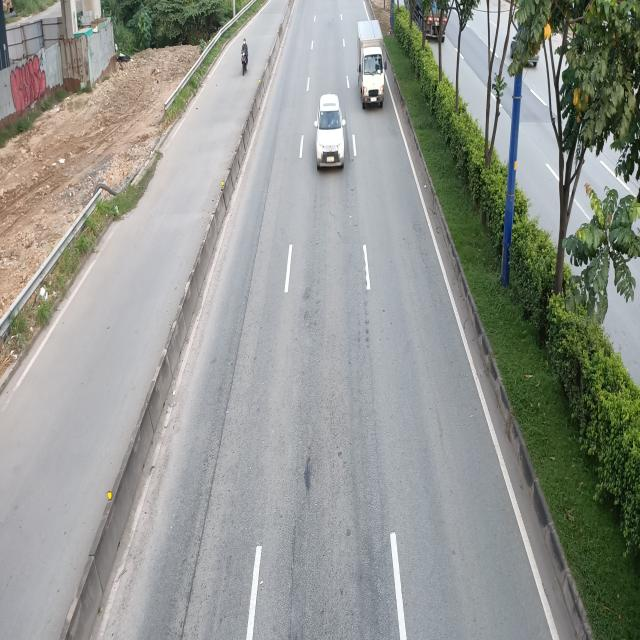car: (314, 94, 346, 172)
truck: (357, 18, 387, 109)
